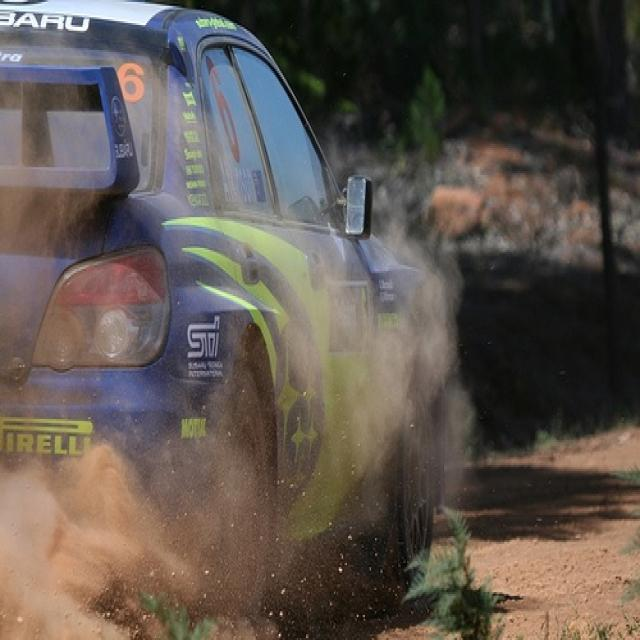car: (0, 2, 440, 638)
